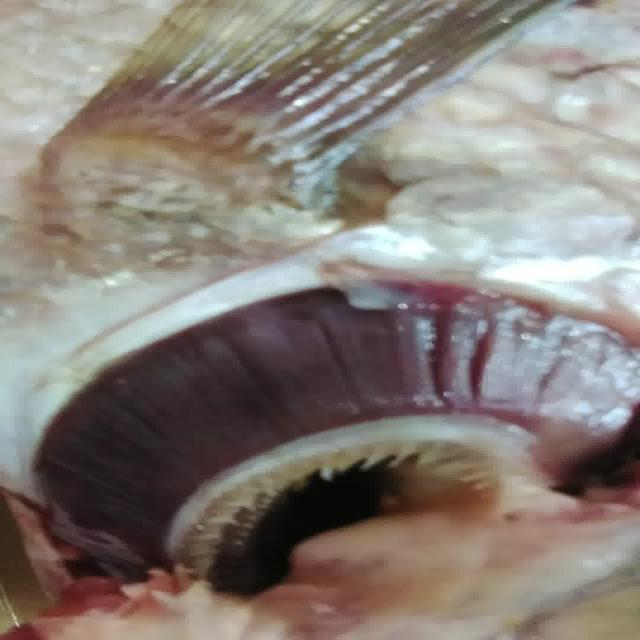Non-Fresh: (32, 255, 620, 591)
